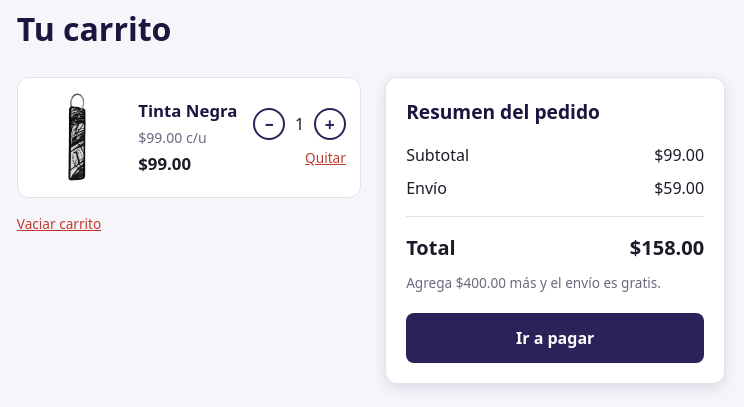
Scenario: Cart › quita un producto del carrito
Click the button with aria-label "Quitar Tinta Negra del carrito" at (325, 157), box x1=305 y1=148 x2=346 y2=167
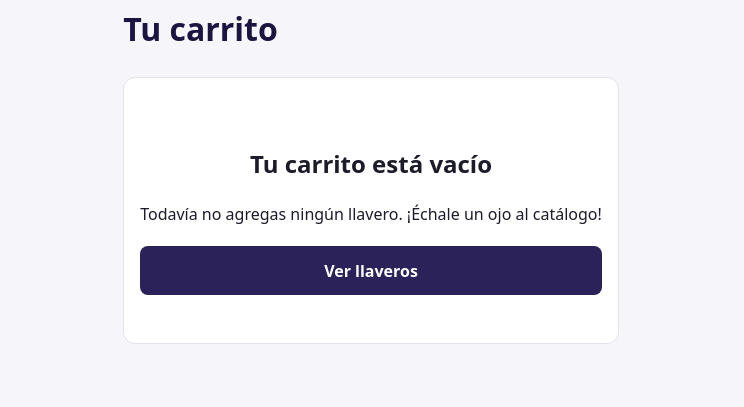
Check: the heading "Tu carrito está vacío" is shown, box x1=250 y1=147 x2=492 y2=180
